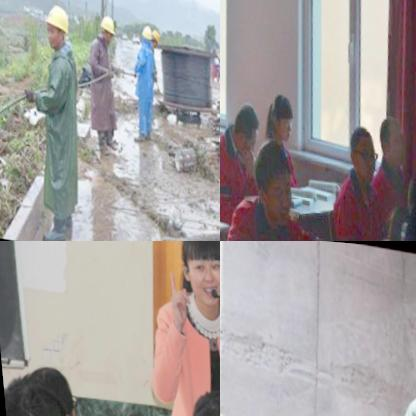head: (242, 132, 296, 222), (13, 356, 78, 416), (169, 241, 220, 307), (0, 374, 67, 416), (368, 104, 406, 168), (337, 112, 375, 175), (221, 94, 258, 158), (258, 80, 294, 143), (177, 377, 220, 416)
helmet: (35, 0, 70, 50), (92, 8, 115, 44), (133, 20, 151, 45), (144, 25, 160, 49)
